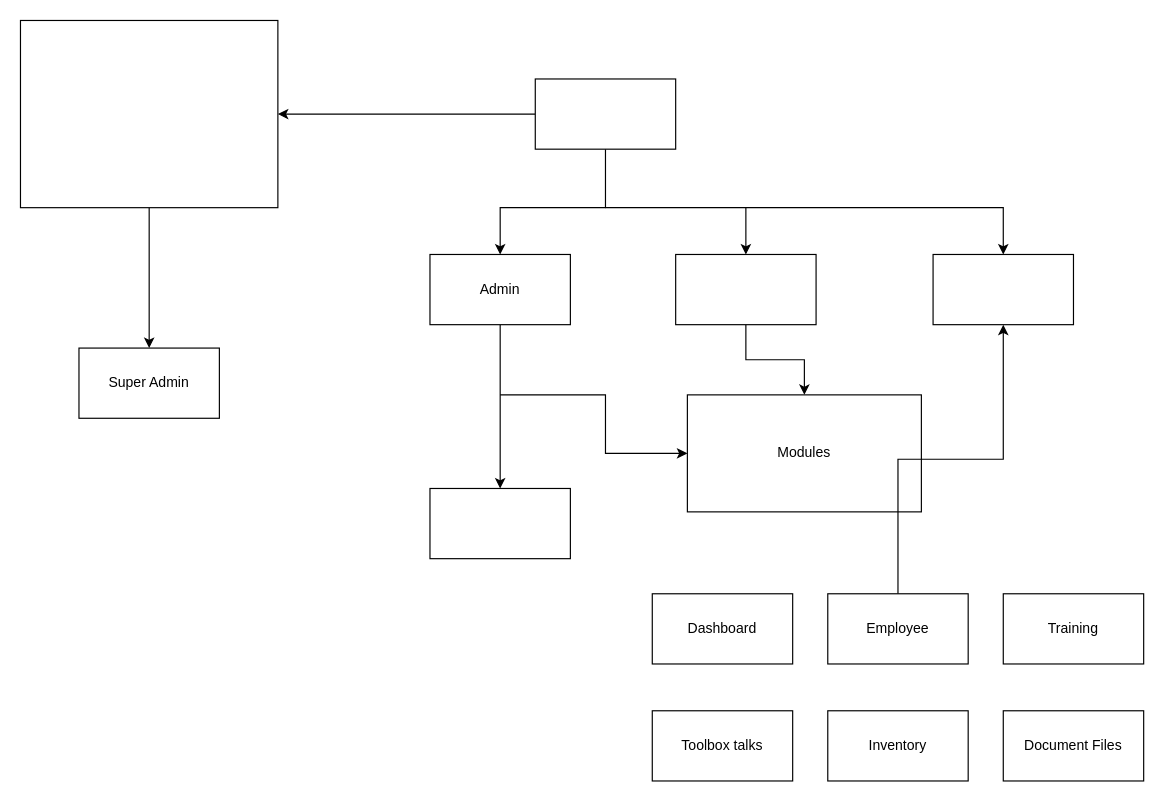
This 1164x801 diagram has some shape labels left out. Each missing label, with the box of its shape:
Administrator: (429, 487, 570, 559)
Company/Subscriber: (534, 78, 676, 149)
Employees: (932, 253, 1073, 325)
Management System: (19, 19, 278, 208)
Users: (675, 253, 816, 325)
